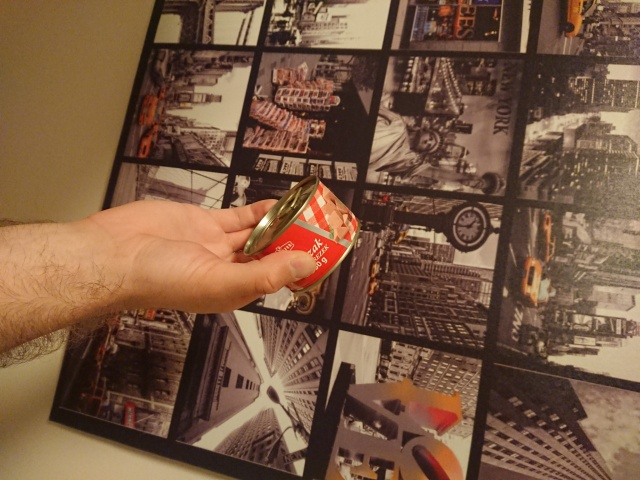Podravka Luncheon Meat 150g: (241, 173, 363, 296)
